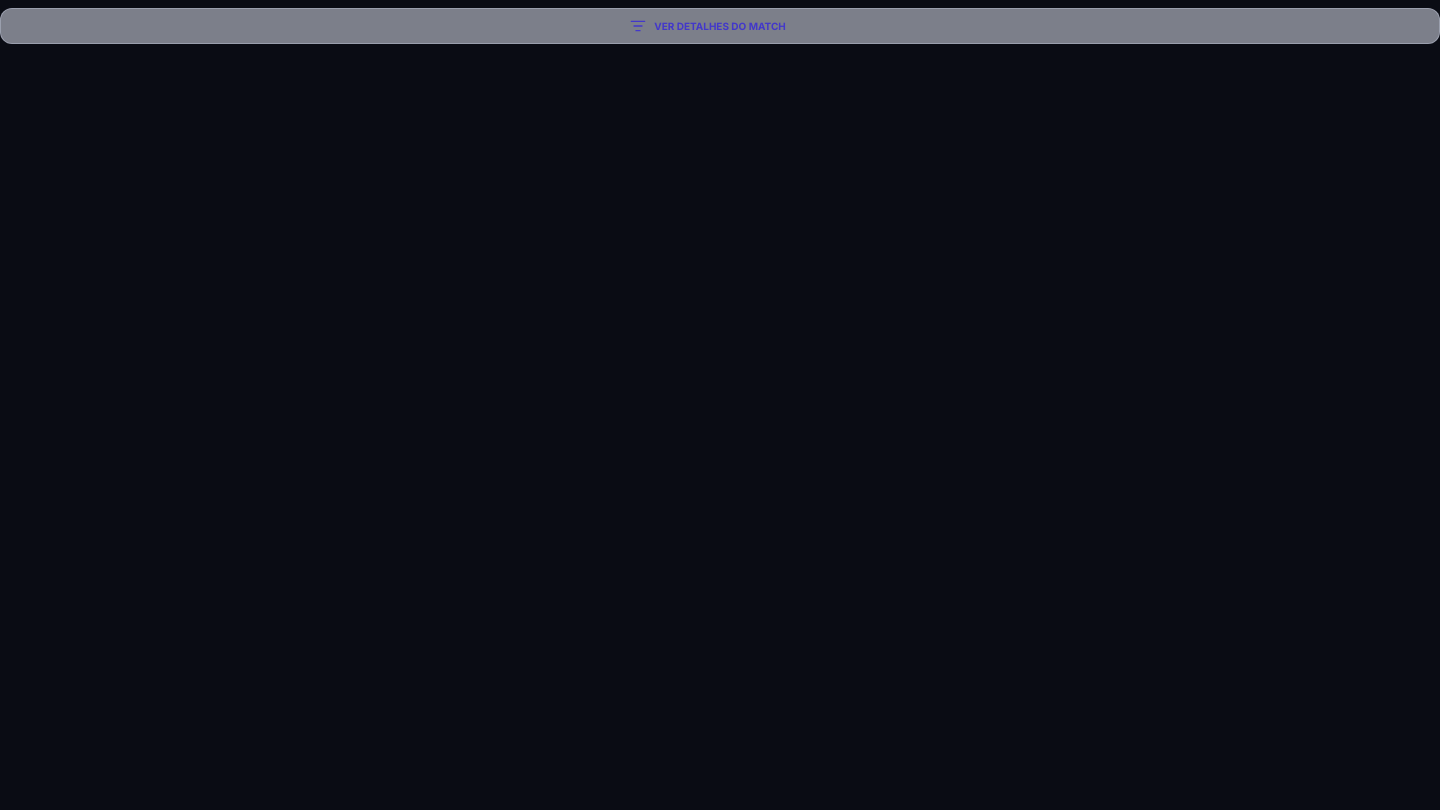
Scenario: Consumidores do histórico social › distingue erro de vazio e permite nova tentativa: detalhes
What coordinates should you click on to do the following:
click the button "VER DETALHES DO MATCH"
I would click on:
 (720, 26)
Its box is 0,8 -> 1439,44.
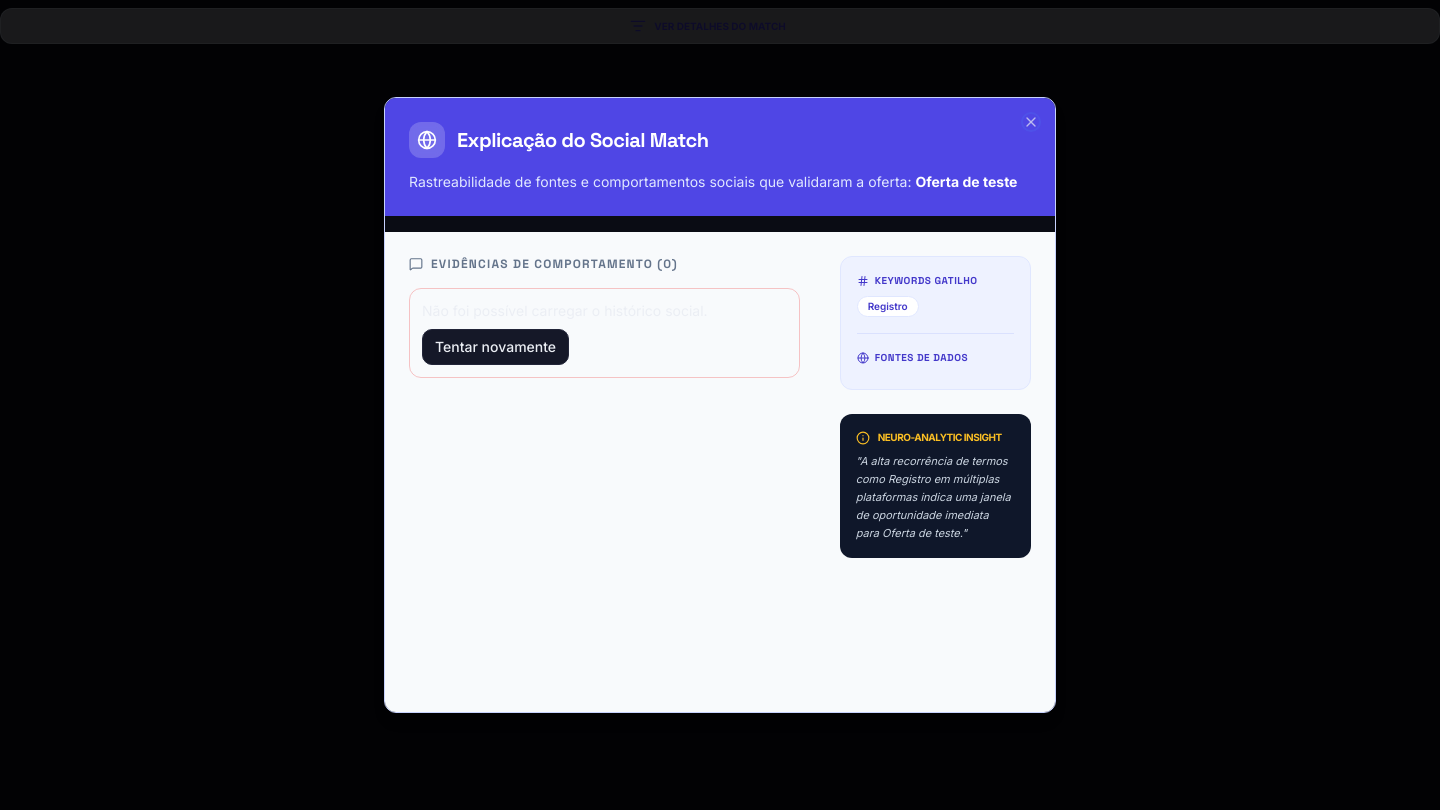
What coordinates should you click on to do the following:
click the button "Tentar novamente"
I would click on:
 (496, 347)
Its box is 422,329 -> 569,365.
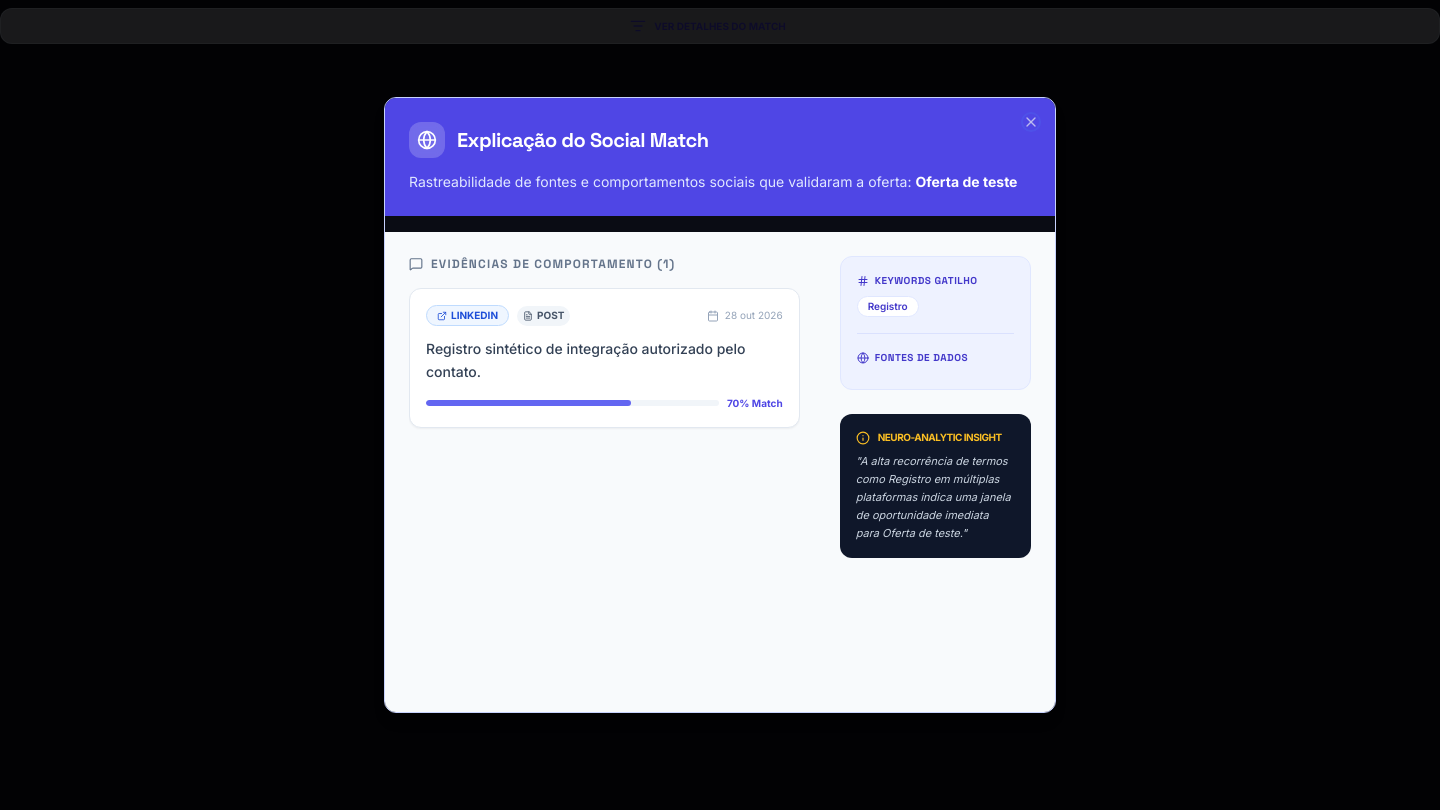
Now the text "Registro sintético de integração autorizado pelo contato." is shown, box 426,338 -> 783,384
Now the message "Não foi possível carregar o histórico social. Tentar novamente" is gone
